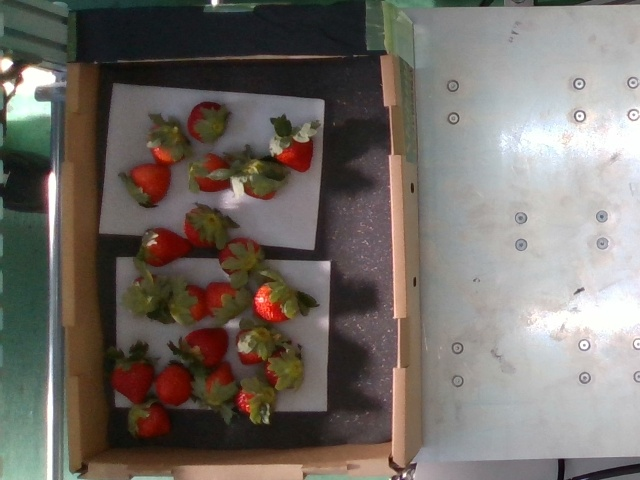strawberry: (112, 359, 154, 405), (140, 227, 189, 266), (218, 237, 263, 279), (183, 328, 228, 369), (202, 362, 241, 408), (170, 284, 213, 325), (271, 131, 313, 172), (187, 102, 227, 144), (130, 163, 170, 205), (191, 154, 234, 193), (206, 282, 247, 322), (254, 283, 293, 324), (156, 365, 195, 406), (127, 405, 173, 439), (149, 124, 186, 165), (264, 349, 300, 391), (243, 159, 276, 202), (185, 208, 219, 249), (236, 381, 275, 416), (131, 277, 168, 311), (237, 329, 270, 365)
